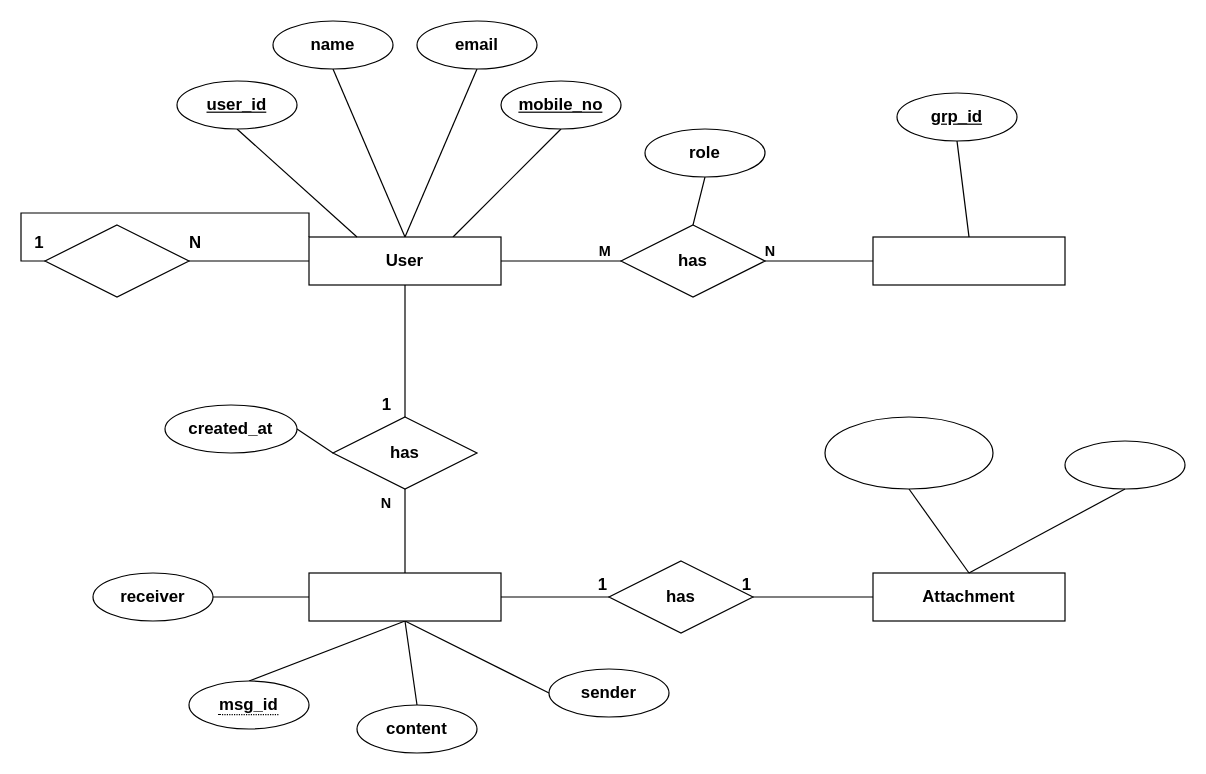
Image size: 1206x774. Some labels were removed from this diagram. Each missing label, with the box of its shape:
attachment_id: (824, 416, 993, 489)
friend: (44, 224, 189, 297)
Group: (872, 236, 1065, 285)
Message: (308, 572, 501, 621)
URI: (1064, 440, 1185, 489)
